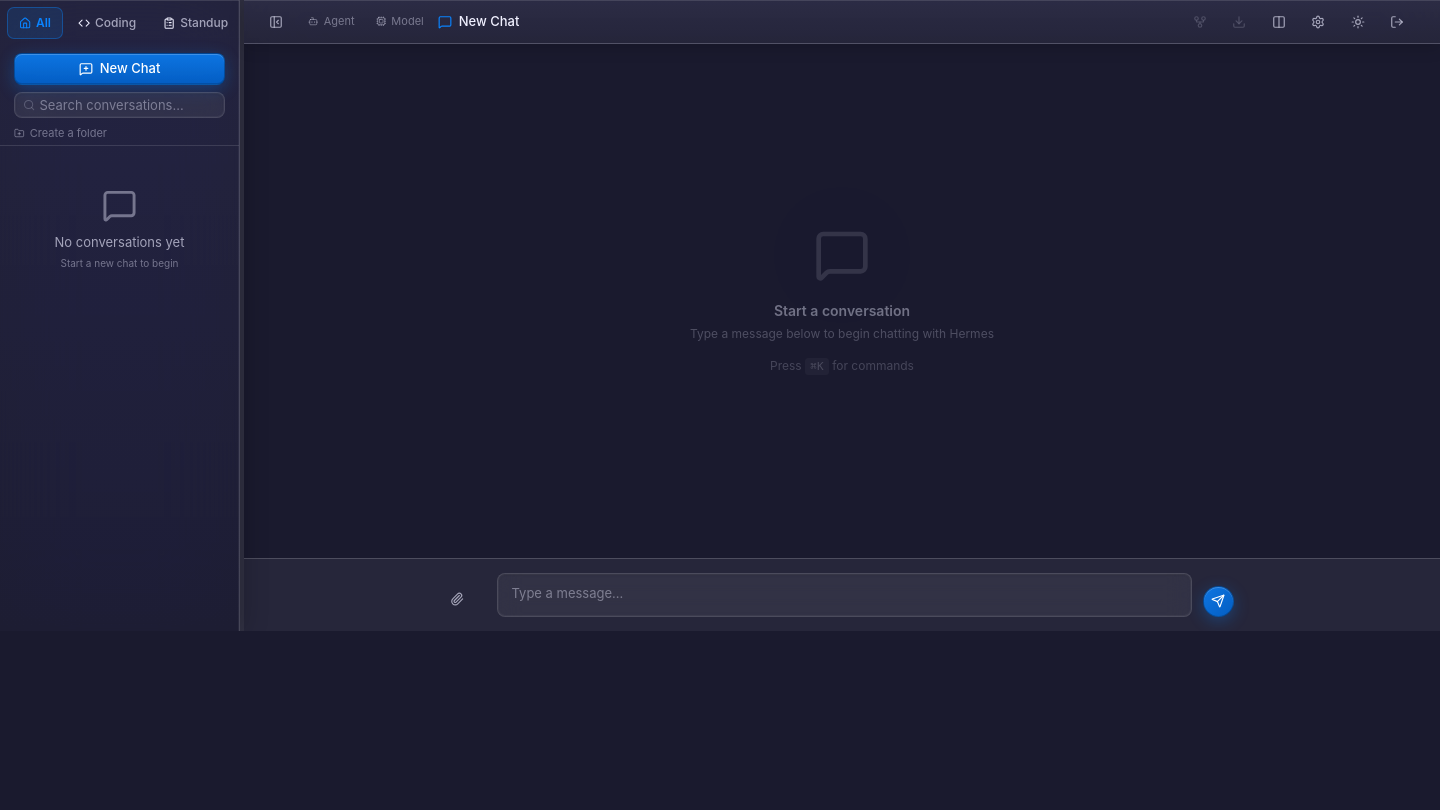
Test: Flow: Chat Lifecycle › handles run.error event — shows error in assistant message
The width and height of the screenshot is (1440, 810).
Type "Hello" into the text box with placeholder "Type a message…" at (844, 595), box [496,573,1192,617]
Then press Enter
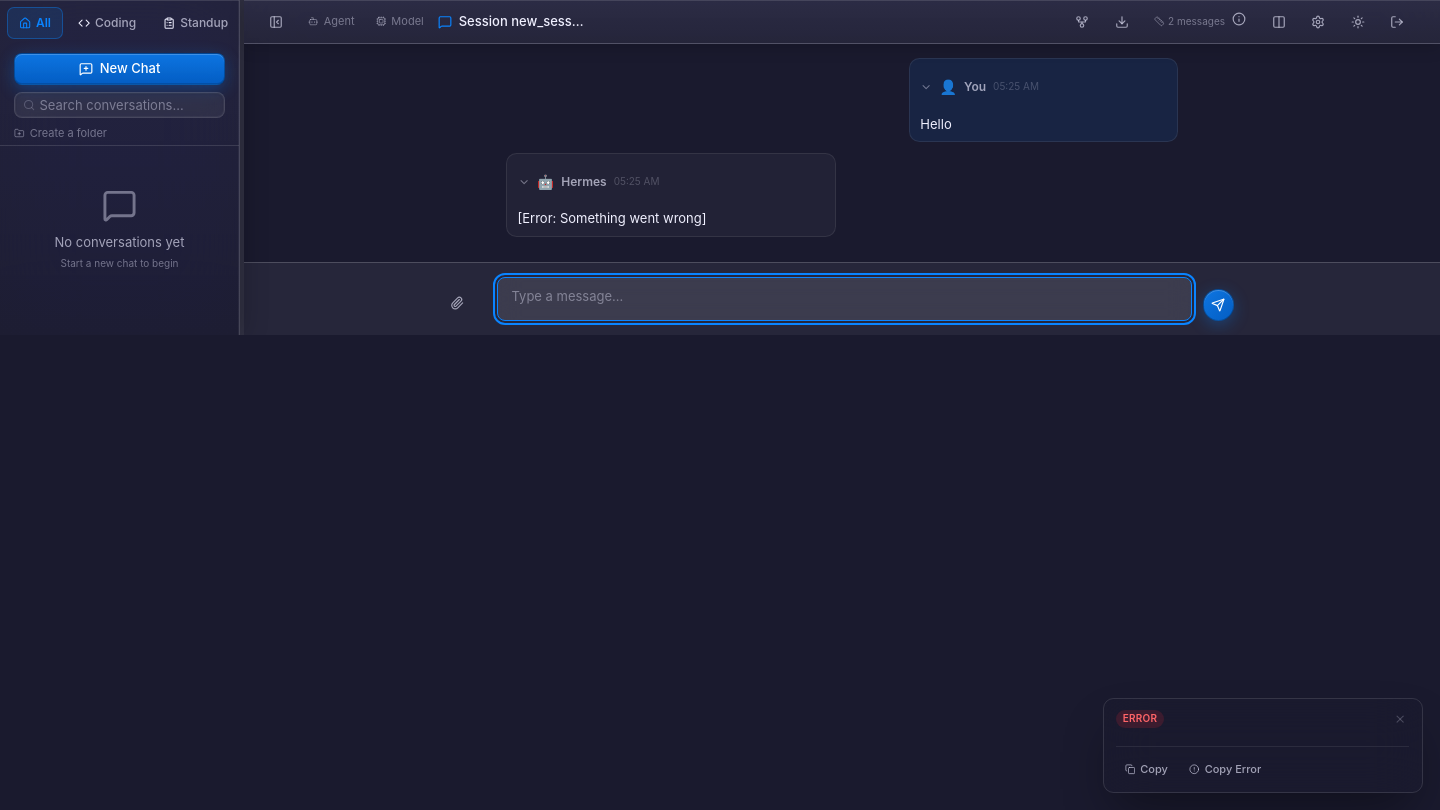
Result: the text "[Error: Something went wrong]" is shown at [518,210,706,226]
